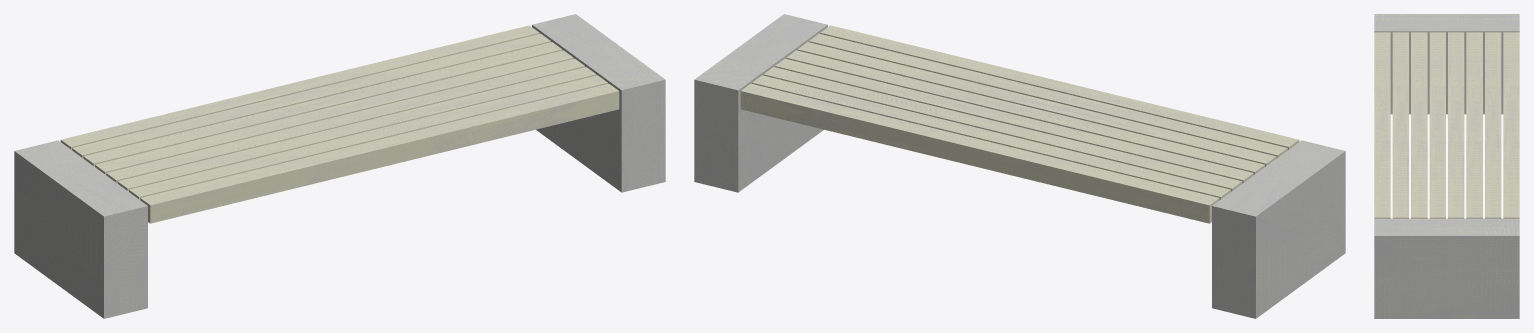
The picture shows the model from 3 angles, left to right: view 1: azimuth 30°, elevation 25°; view 2: azimuth 150°, elevation 25°; view 3: azimuth 270°, elevation 25°; orthographic projection. The views are drawn at different scales.
Visible parts, largest first — view 1: mesh2_mesh2-geometry, mesh3_mesh3-geometry, mesh1_mesh1-geometry, mesh5_mesh5-geometry, mesh9_mesh9-geometry, mesh6_mesh6-geometry, mesh7_mesh7-geometry, mesh8_mesh8-geometry, mesh10_mesh10-geometry, mesh4_mesh4-geometry; view 2: mesh2_mesh2-geometry, mesh6_mesh6-geometry, mesh1_mesh1-geometry, mesh9_mesh9-geometry, mesh5_mesh5-geometry, mesh3_mesh3-geometry, mesh4_mesh4-geometry, mesh7_mesh7-geometry, mesh8_mesh8-geometry, mesh10_mesh10-geometry; view 3: mesh1_mesh1-geometry, mesh2_mesh2-geometry, mesh3_mesh3-geometry, mesh4_mesh4-geometry, mesh5_mesh5-geometry, mesh6_mesh6-geometry, mesh7_mesh7-geometry, mesh8_mesh8-geometry, mesh9_mesh9-geometry, mesh10_mesh10-geometry.
Boxes of the visible parts, x1,y1,x2,y2 form: mesh2_mesh2-geometry: (14, 140, 147, 318); mesh3_mesh3-geometry: (140, 83, 619, 223); mesh1_mesh1-geometry: (532, 14, 665, 192); mesh5_mesh5-geometry: (129, 75, 607, 199); mesh9_mesh9-geometry: (72, 33, 550, 158); mesh6_mesh6-geometry: (60, 25, 539, 149); mesh7_mesh7-geometry: (95, 50, 573, 174); mesh8_mesh8-geometry: (106, 58, 584, 183); mesh10_mesh10-geometry: (83, 42, 562, 166); mesh4_mesh4-geometry: (117, 67, 596, 191); mesh2_mesh2-geometry: (1212, 140, 1345, 318); mesh6_mesh6-geometry: (740, 83, 1219, 223); mesh1_mesh1-geometry: (694, 14, 827, 192); mesh9_mesh9-geometry: (752, 75, 1230, 199); mesh5_mesh5-geometry: (809, 33, 1287, 158); mesh3_mesh3-geometry: (820, 25, 1299, 149); mesh4_mesh4-geometry: (797, 42, 1276, 166); mesh7_mesh7-geometry: (775, 58, 1253, 183); mesh8_mesh8-geometry: (786, 50, 1264, 174); mesh10_mesh10-geometry: (763, 67, 1242, 191); mesh1_mesh1-geometry: (1374, 218, 1519, 318); mesh2_mesh2-geometry: (1374, 14, 1519, 114); mesh3_mesh3-geometry: (1374, 32, 1390, 218); mesh4_mesh4-geometry: (1411, 32, 1427, 218); mesh5_mesh5-geometry: (1392, 32, 1408, 218); mesh6_mesh6-geometry: (1503, 32, 1519, 218); mesh7_mesh7-geometry: (1448, 32, 1464, 218); mesh8_mesh8-geometry: (1429, 32, 1445, 218); mesh9_mesh9-geometry: (1485, 32, 1501, 218); mesh10_mesh10-geometry: (1466, 32, 1482, 218).
Bounding box in the file's own units: 0.9505 × 0.1655 × 0.2631.
